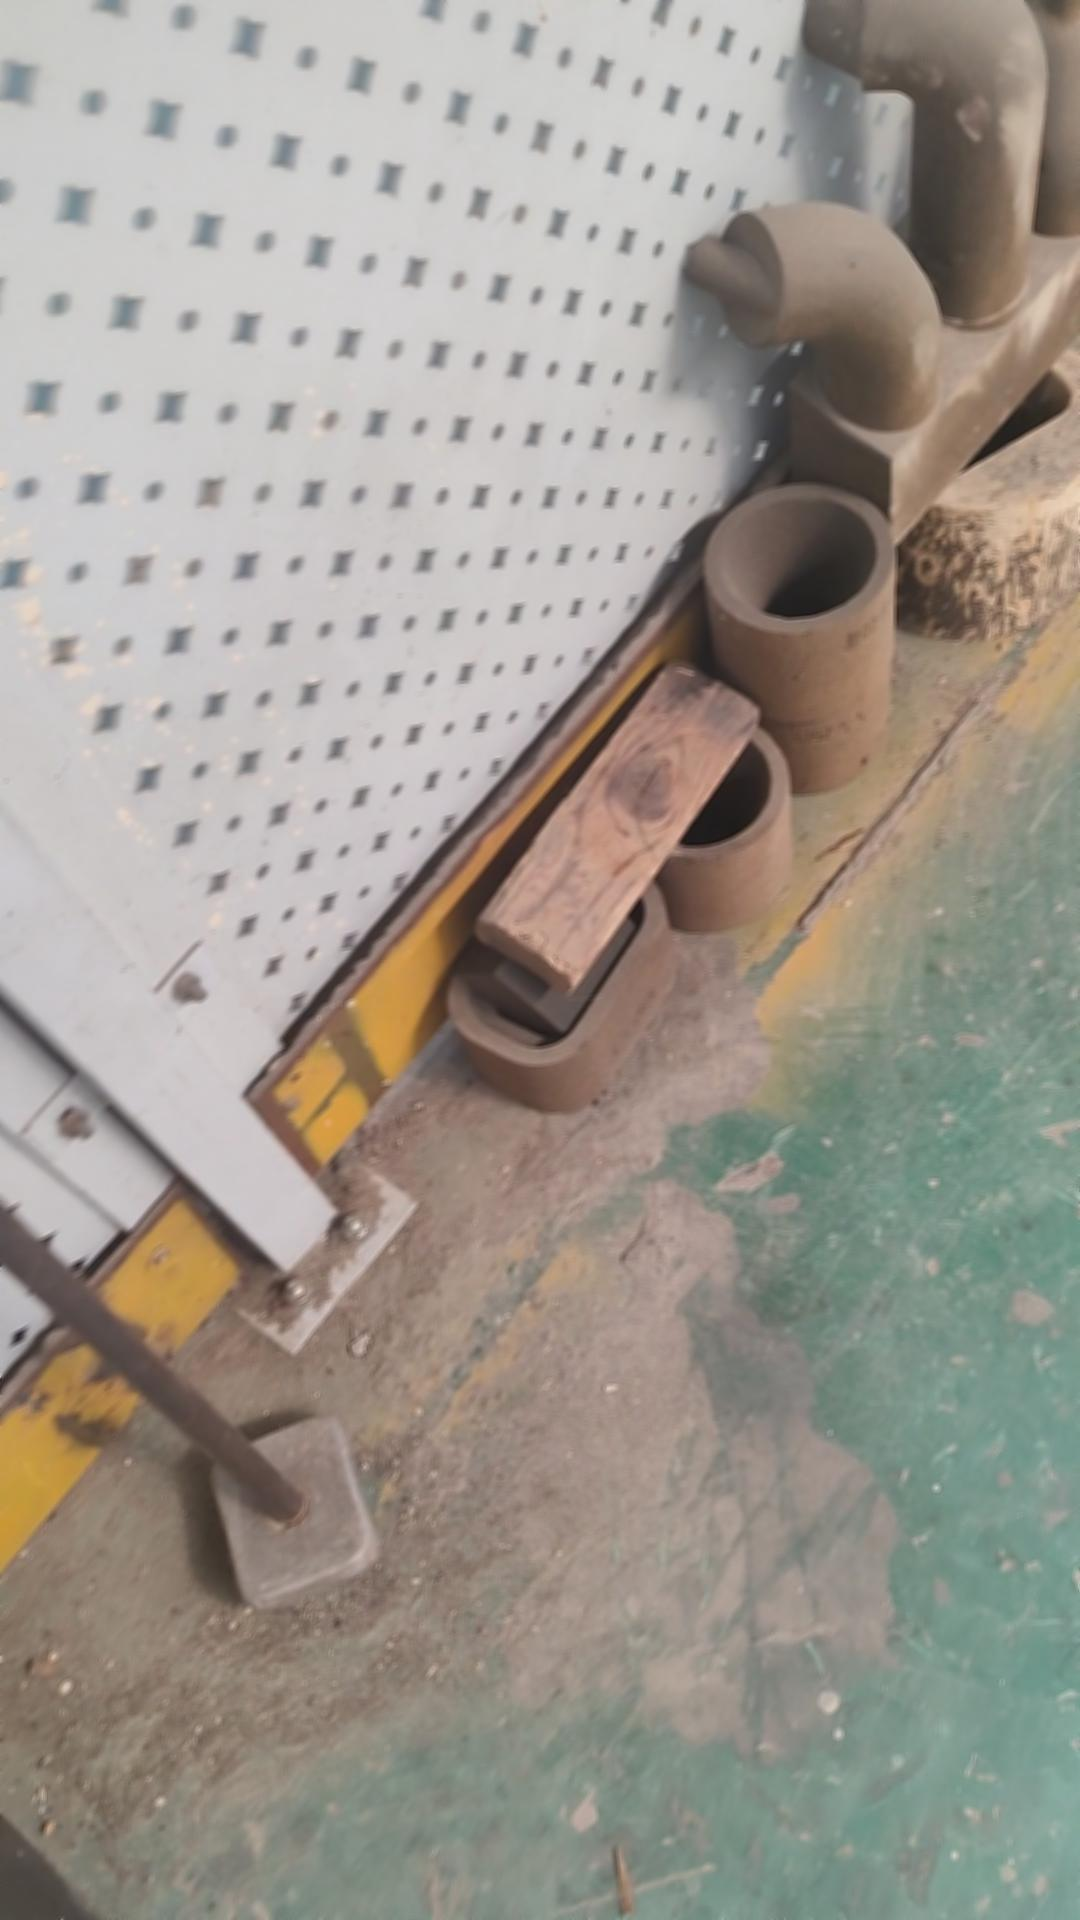pouring hole: (723, 495, 877, 618), (634, 729, 771, 847)
